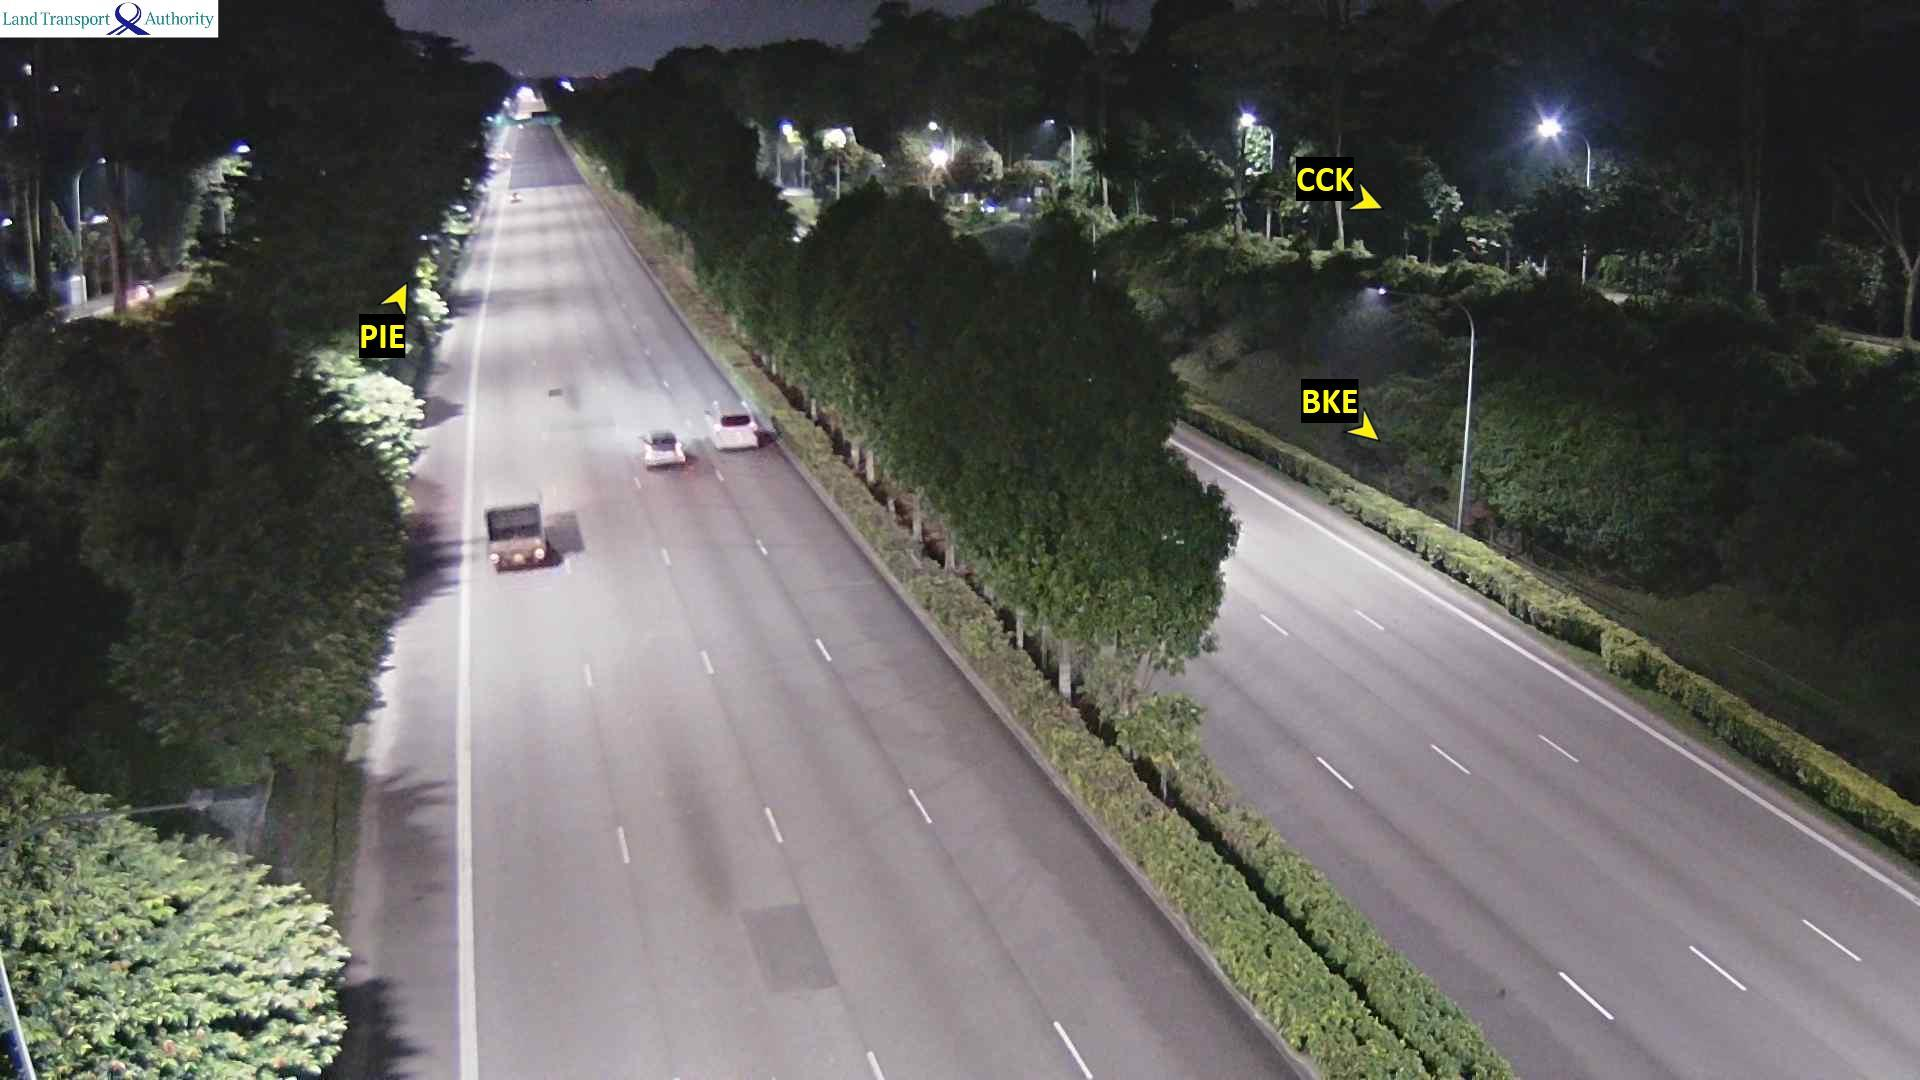cars: (707, 408, 762, 451), (639, 429, 685, 468)
trucks: (484, 501, 547, 569)
